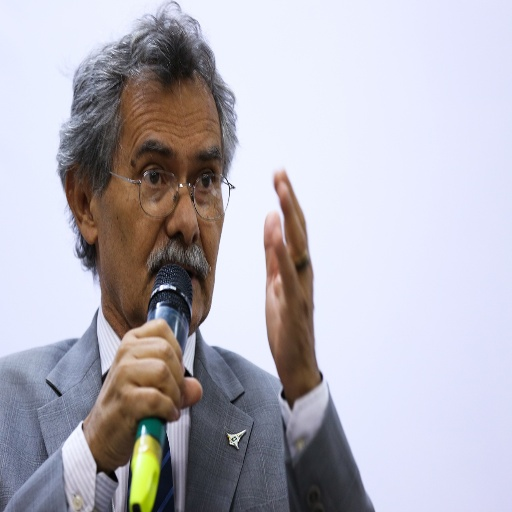hand: (88, 316, 204, 471), (261, 156, 319, 315)
